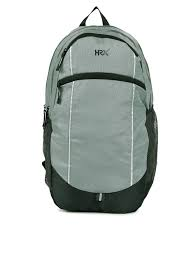backpack: (41, 5, 158, 213)
